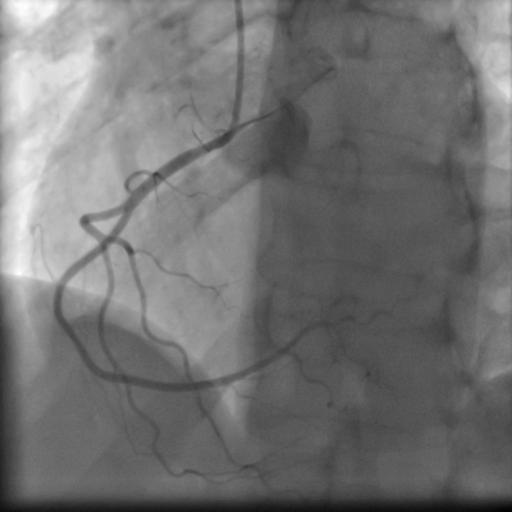Stenosis: (66, 315, 94, 362)
